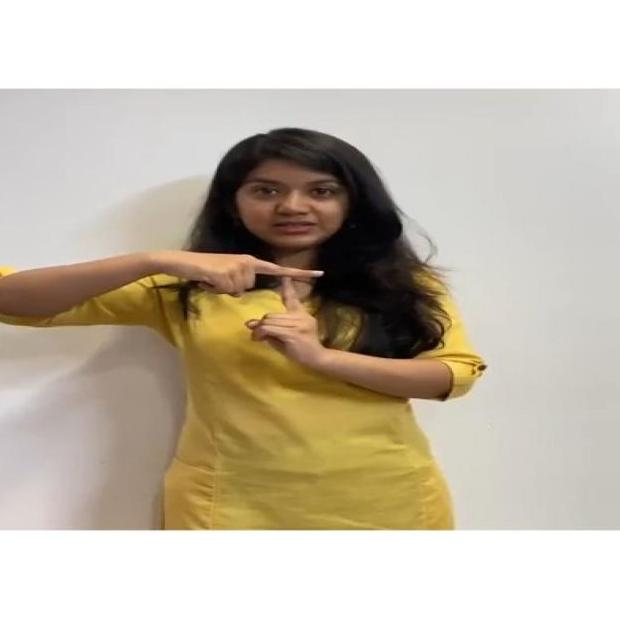S: (140, 242, 373, 379)
